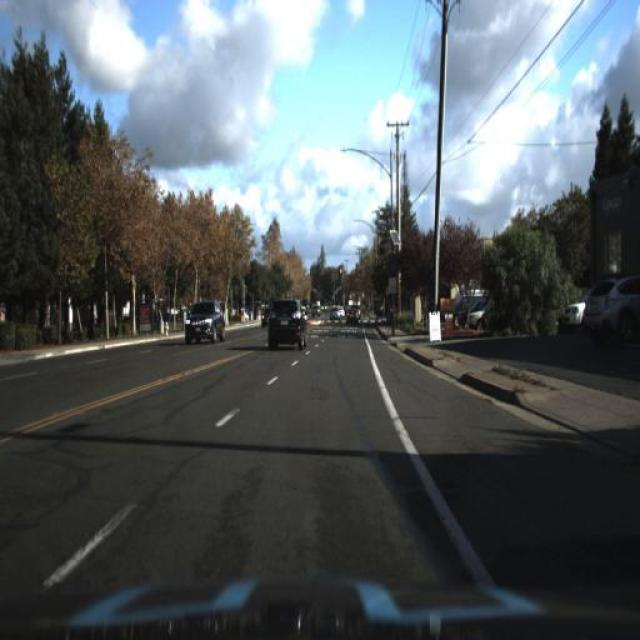car: (262, 293, 313, 359), (180, 295, 232, 349), (557, 282, 592, 336), (462, 293, 503, 335), (344, 305, 362, 326)
